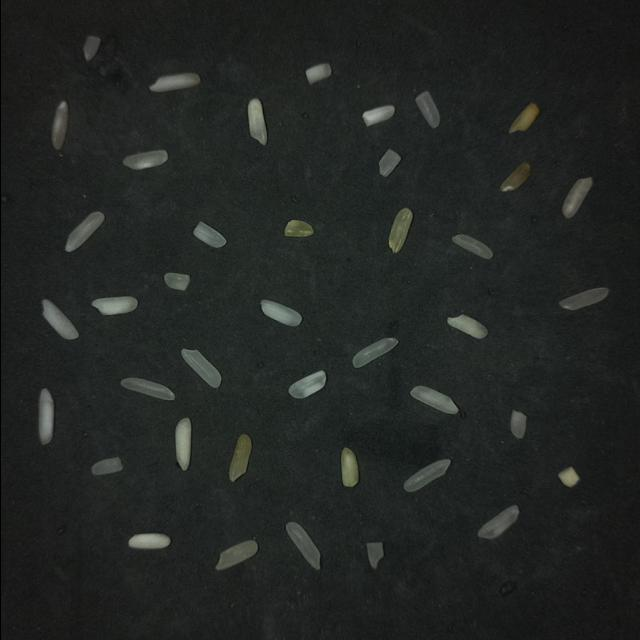broken: (416, 92, 440, 128), (193, 222, 226, 248), (341, 448, 359, 486), (379, 150, 400, 176), (92, 457, 123, 474), (305, 64, 331, 84), (510, 410, 527, 438), (83, 35, 101, 61), (366, 542, 384, 568), (165, 273, 190, 291)
chalky: (43, 300, 79, 339), (261, 300, 302, 326), (289, 370, 326, 398), (447, 315, 488, 338), (150, 74, 200, 92), (38, 389, 54, 444), (248, 99, 267, 144), (175, 418, 191, 470), (92, 297, 138, 315), (362, 105, 395, 126), (129, 534, 170, 549), (558, 467, 580, 487)
damaged: (509, 103, 540, 133), (500, 162, 530, 191), (285, 220, 314, 237)
discolored: (216, 540, 258, 570), (229, 434, 252, 482), (389, 208, 413, 253)
whole: (286, 522, 320, 569), (65, 212, 104, 252), (181, 349, 221, 388), (404, 459, 450, 491), (478, 505, 519, 538), (353, 338, 398, 368), (411, 386, 459, 414), (563, 177, 593, 218), (121, 378, 175, 400), (559, 288, 609, 309), (452, 234, 493, 259), (123, 150, 168, 169), (52, 101, 69, 149)
